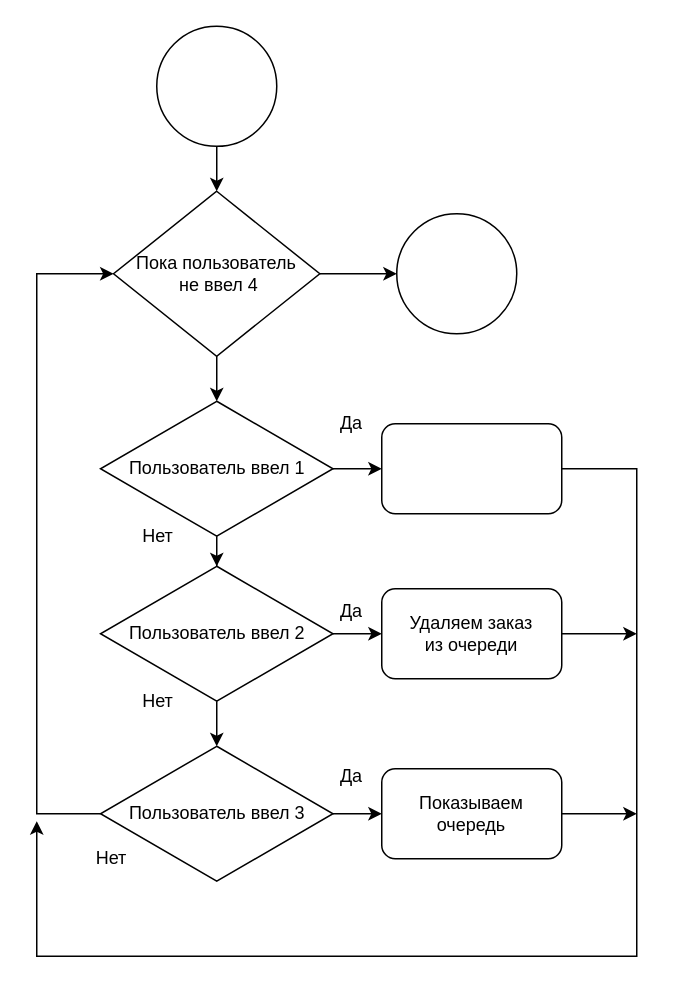
Image size: 675x995. Some labels were removed from this diagram. Each missing label, with the centre of its shape:
Добавляем заказ в очередь: the point at 471,468
Конец: the point at 456,273
Начало: the point at 216,85
